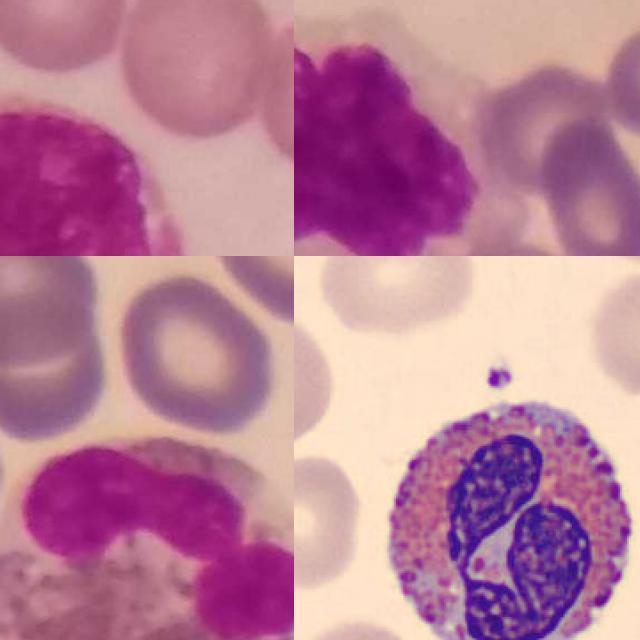Eosinophil: (366, 373, 640, 640), (0, 434, 294, 640)
Monocyte: (294, 31, 519, 256), (0, 85, 183, 256)
RBC: (310, 256, 483, 340), (294, 449, 367, 595), (294, 301, 342, 467), (584, 266, 640, 400)
